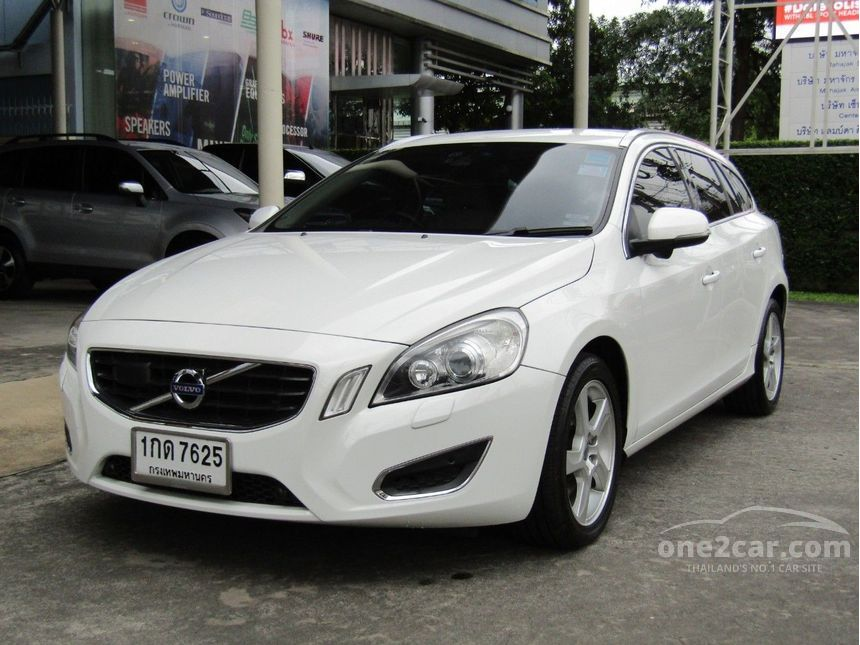sedan: (56, 126, 794, 546)
